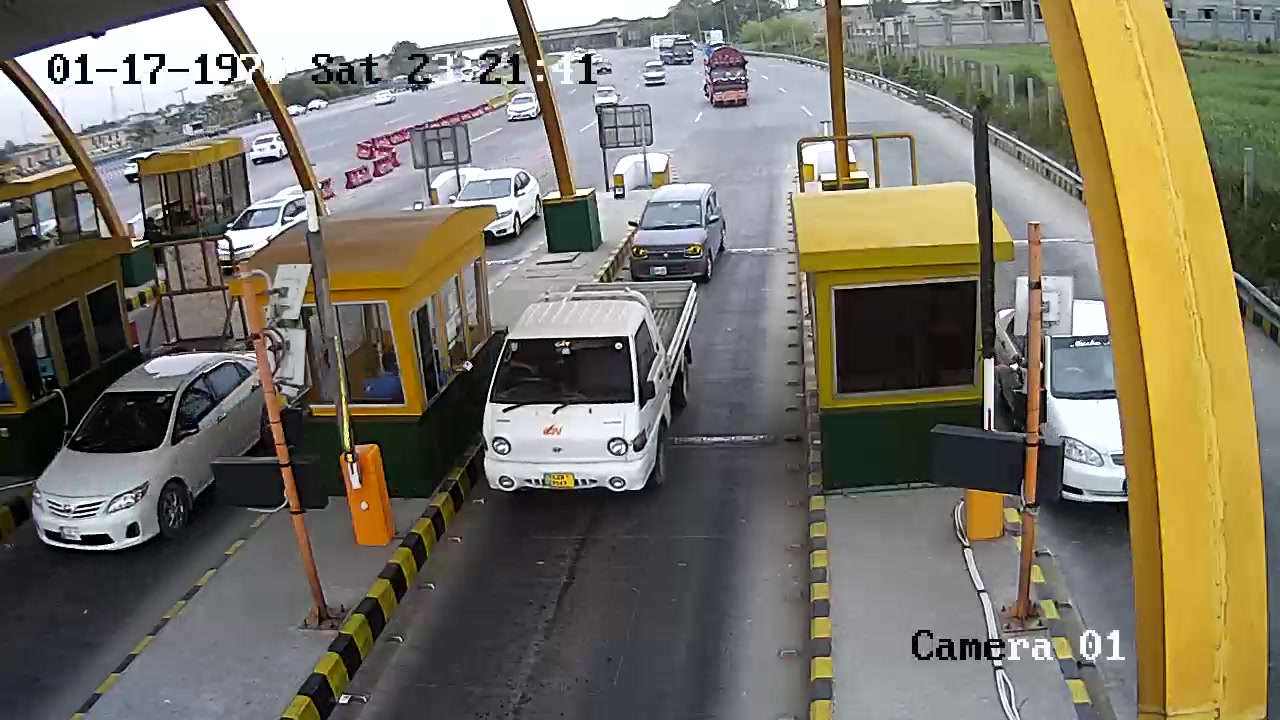F2: (477, 279, 717, 502)
